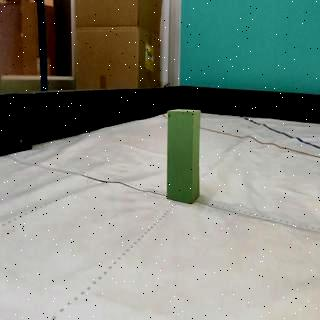greenbox: (166, 106, 202, 206)
